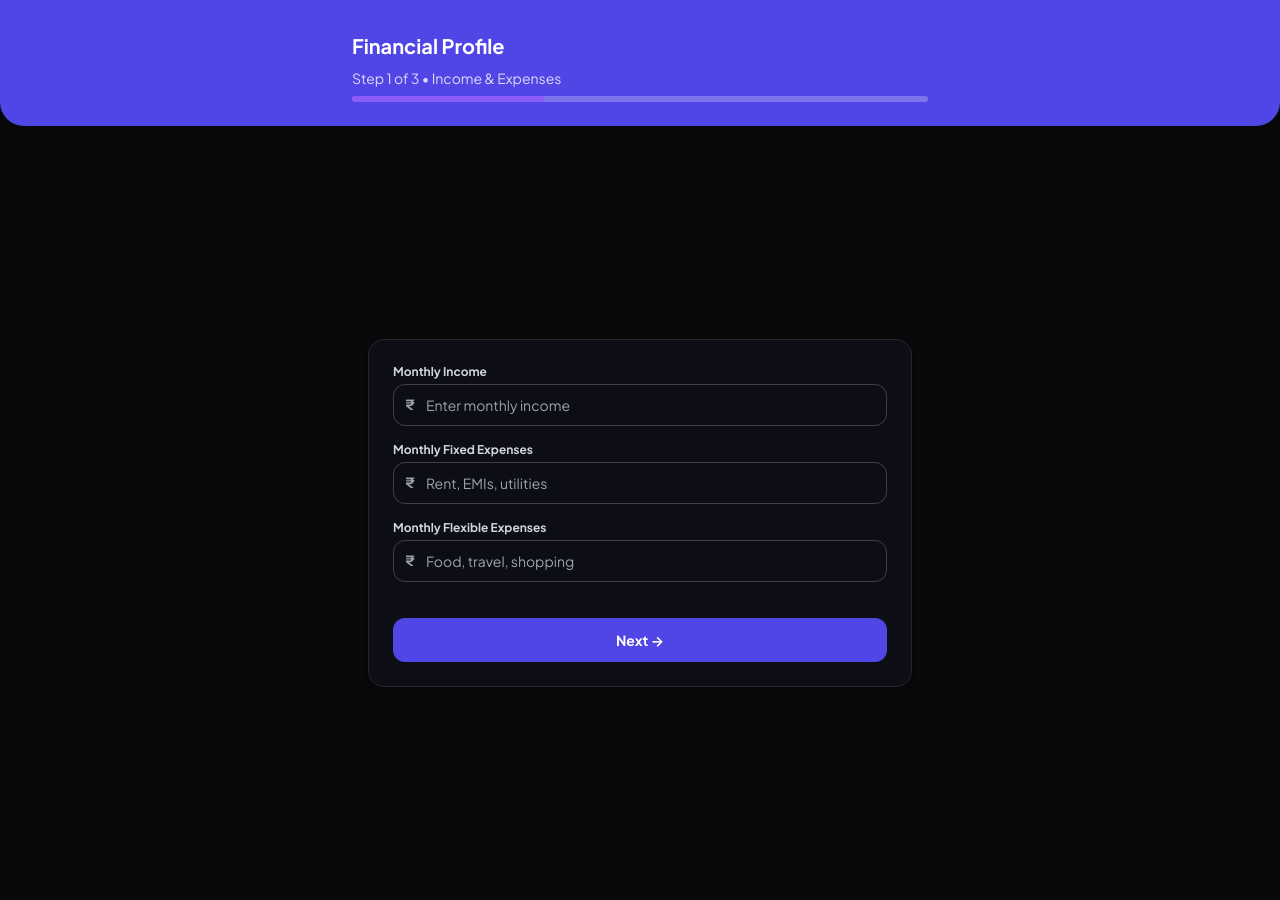
Test case: TASK 8 — Master Data & Onboarding › (8) Onboarding Page (screens/onboarding_screen.dart) › Back button preserves previously entered state across steps
Type "88888" into the number field with test id "input-monthlyIncome" at (640, 405), box left=393, top=384, right=887, bottom=426
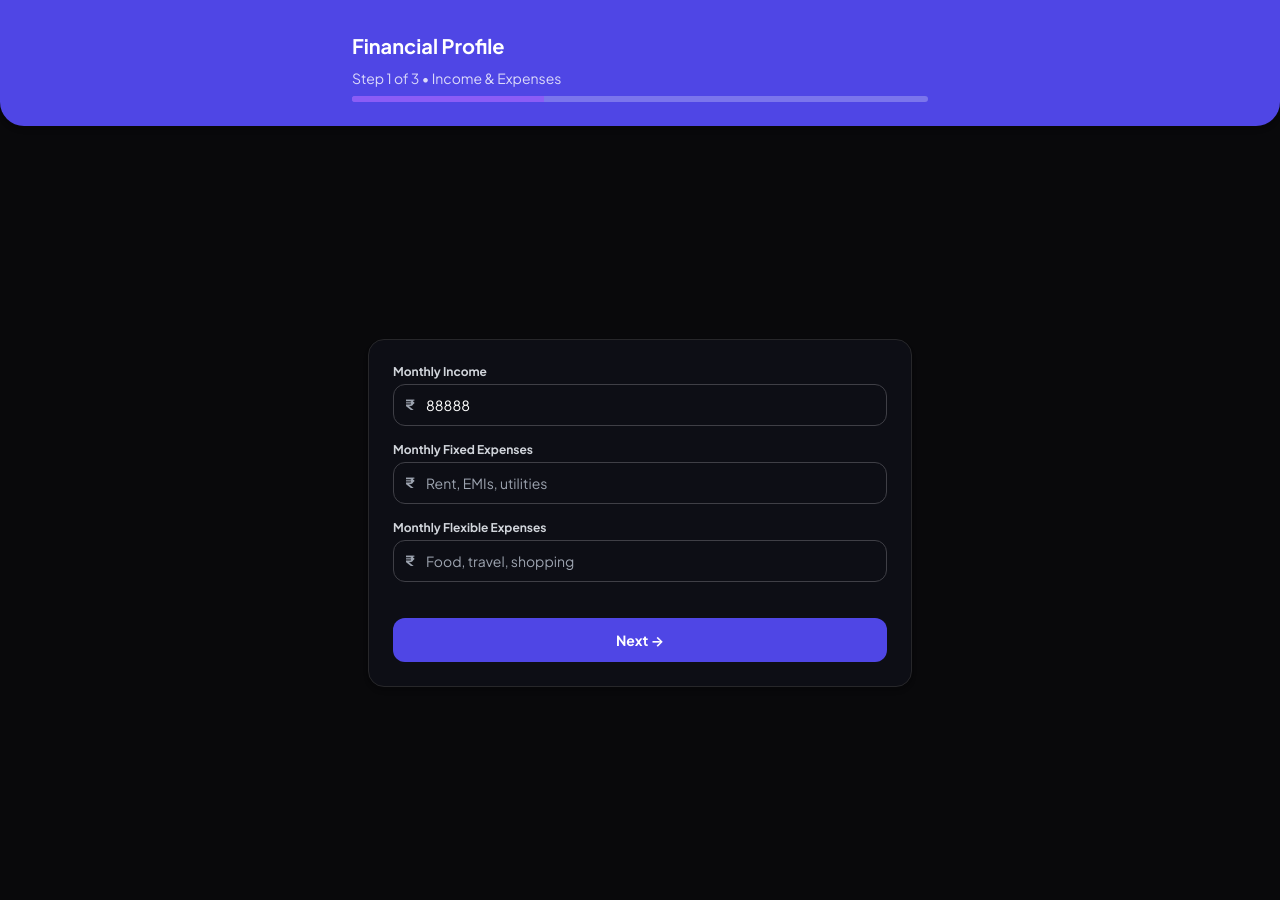
Type "33333" into the number field with test id "input-fixedExpenses" at (640, 483), box left=393, top=462, right=887, bottom=504
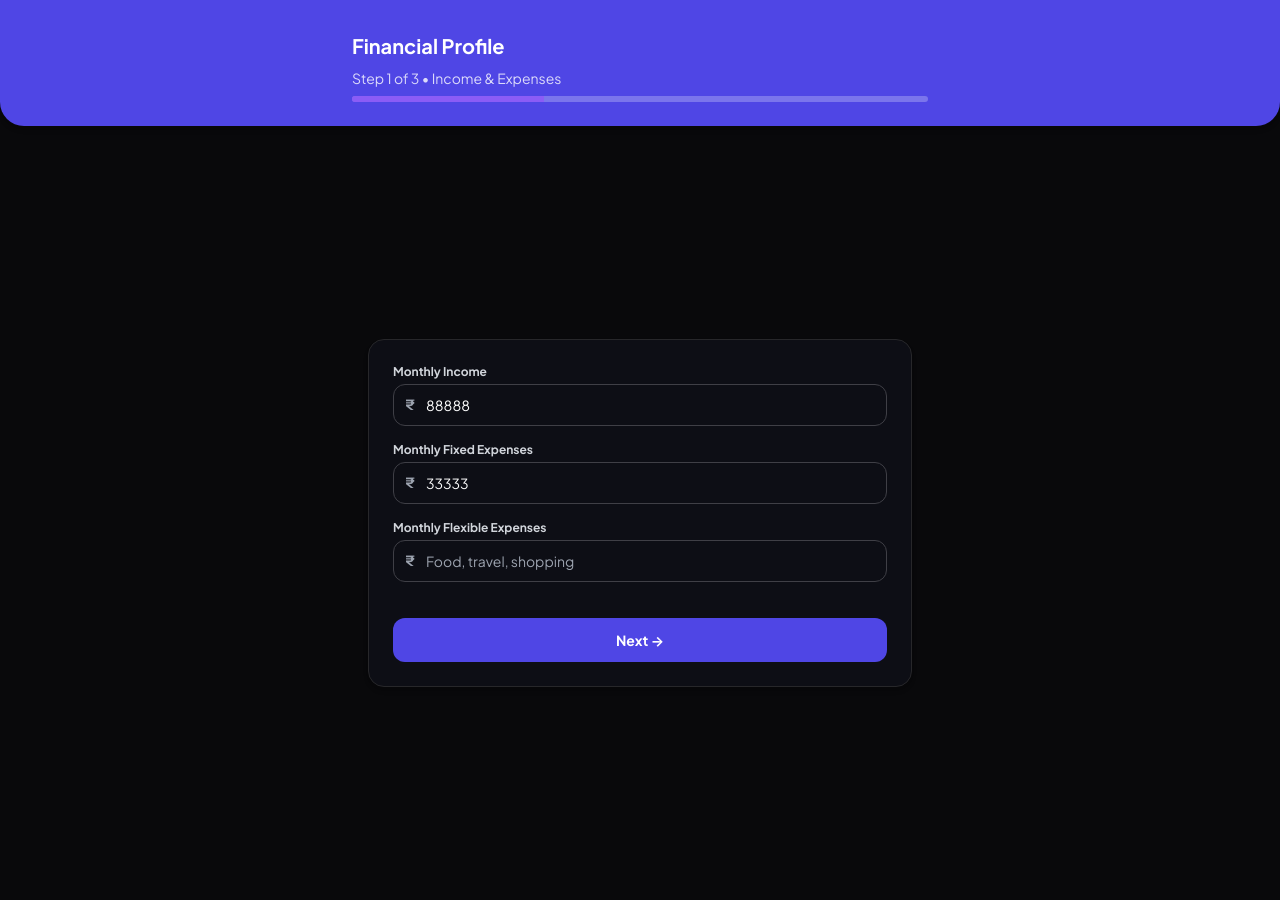
Type "11111" into the number field with test id "input-flexibleExpenses" at (640, 561), box left=393, top=540, right=887, bottom=582
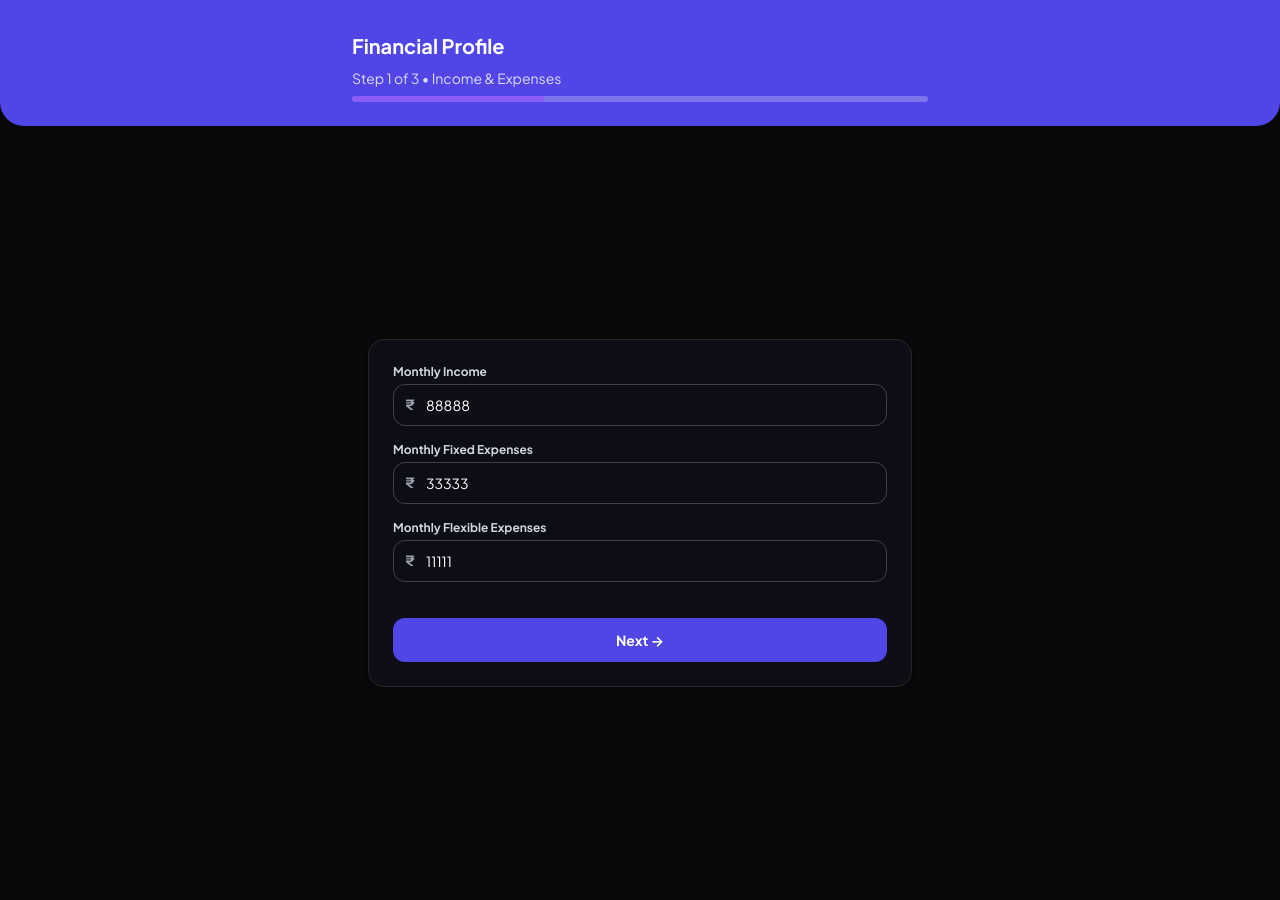
Click the button with test id "onboarding-next-btn" at (640, 640), box left=393, top=618, right=887, bottom=662
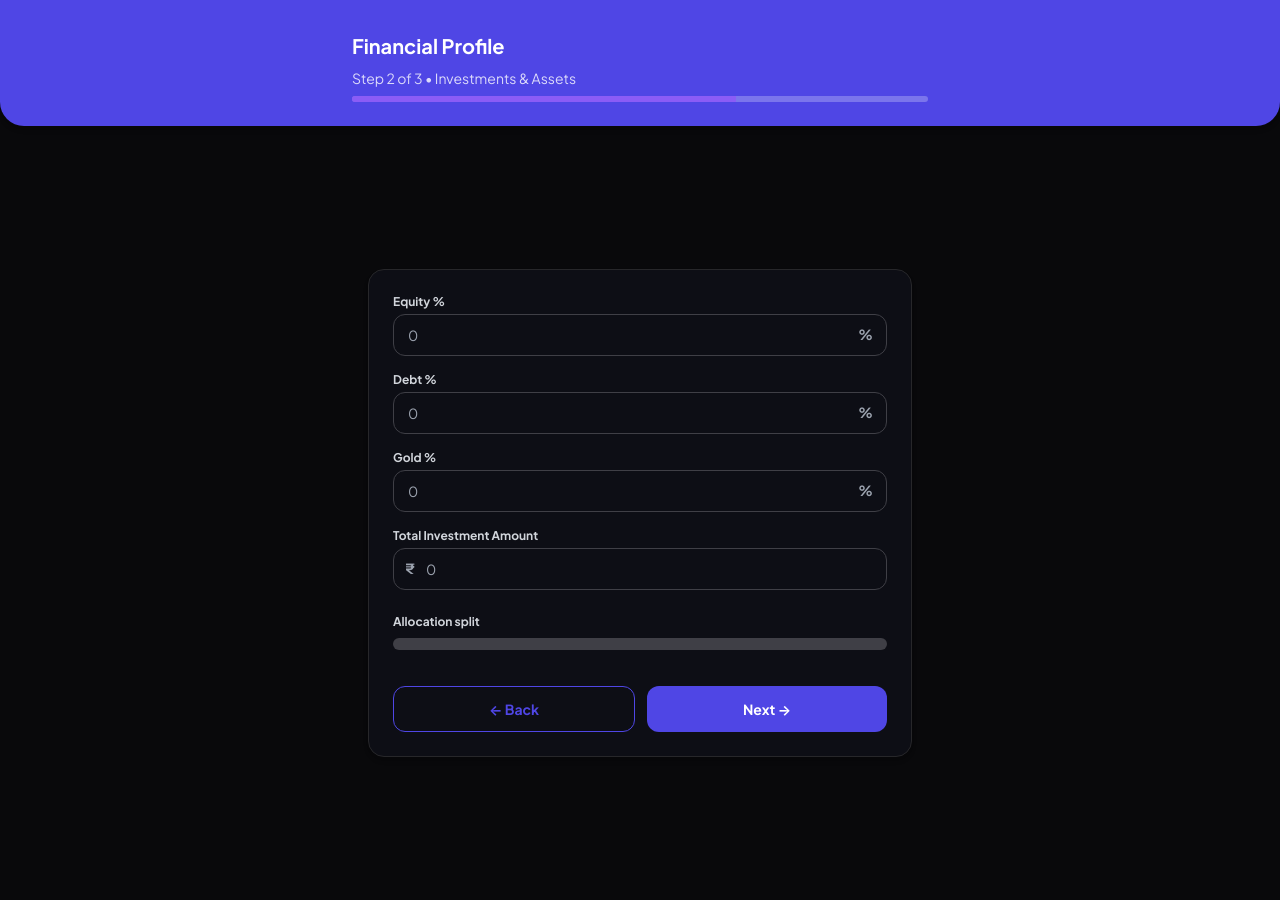
expect the text "Step 2 of 3 • Investments & Assets" is shown: met, box left=352, top=69, right=576, bottom=87
// Click Back
Click the button with test id "onboarding-back-btn" at (514, 709), box left=393, top=686, right=635, bottom=732
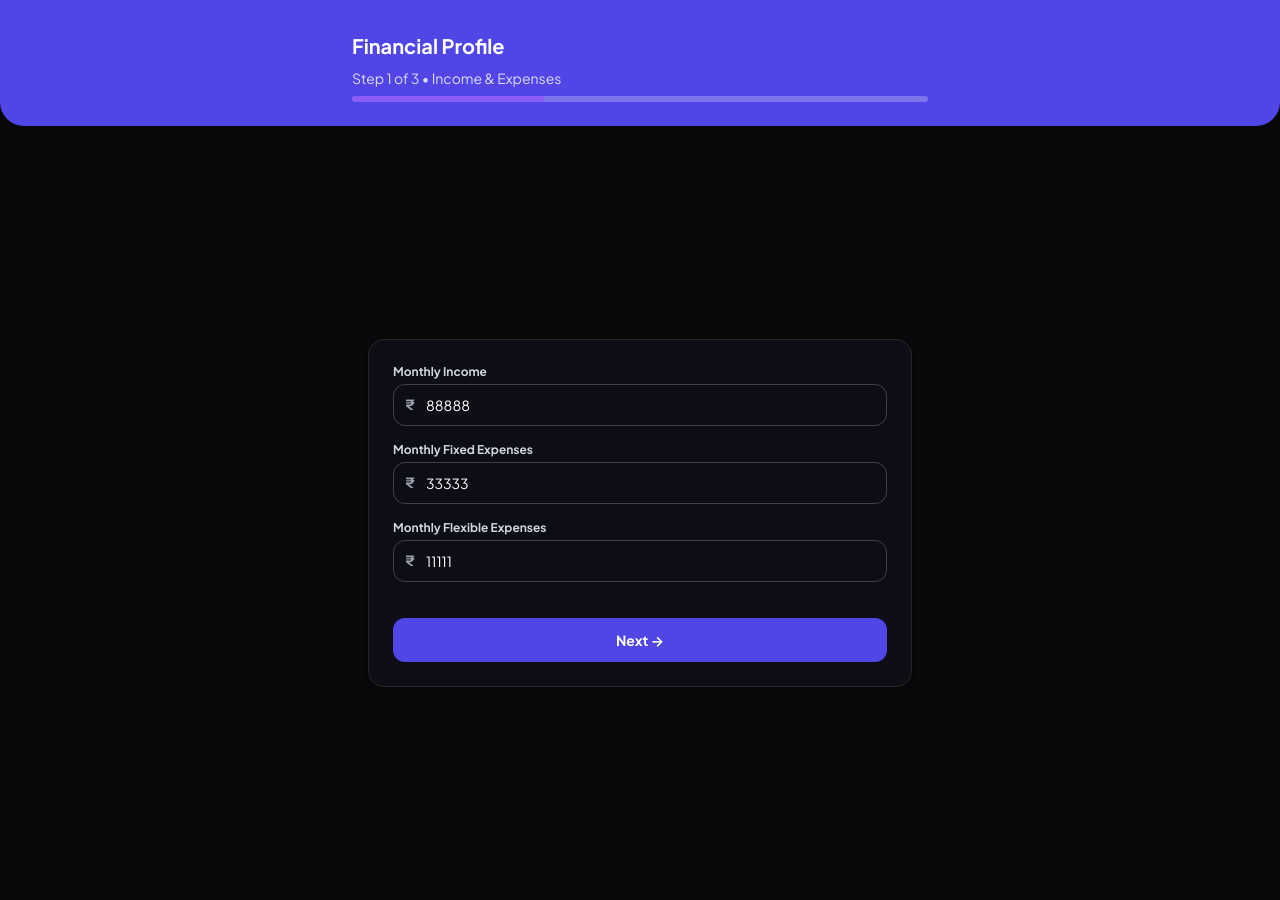
expect the text "Step 1 of 3 • Income & Expenses" is shown: met, box left=352, top=69, right=561, bottom=87
expect the number field with test id "input-monthlyIncome" holds "88888": met, box left=393, top=384, right=887, bottom=426
expect the number field with test id "input-fixedExpenses" holds "33333": met, box left=393, top=462, right=887, bottom=504
